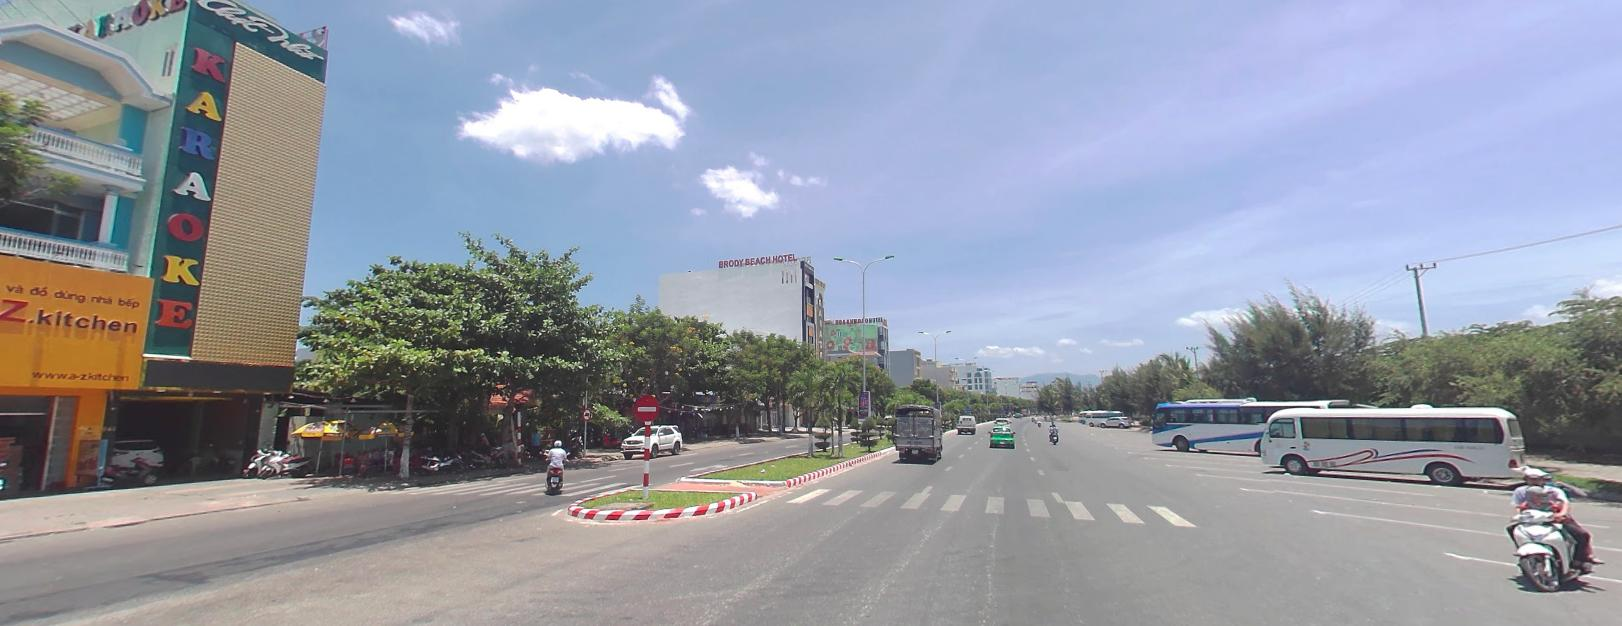Cam con lai: (582, 407, 590, 419)
Cam nguoc chieu: (633, 393, 659, 419), (635, 393, 658, 420)
